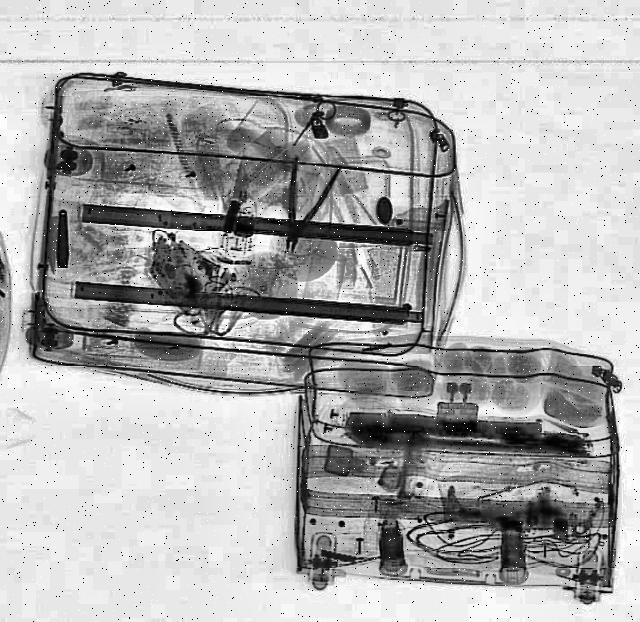Pliers: (265, 153, 343, 256)
